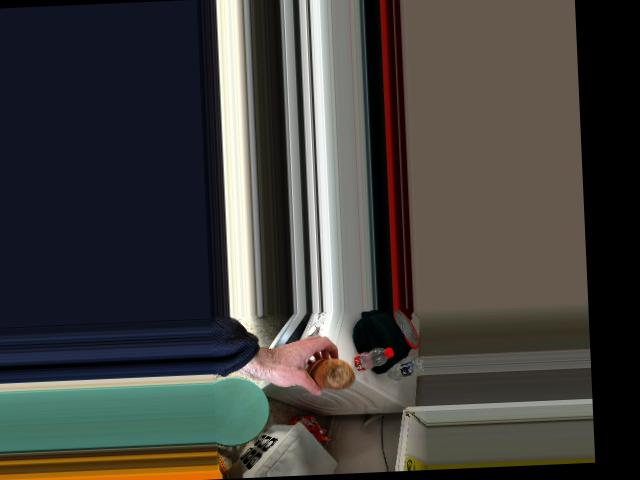sweet_potato: (302, 354, 358, 396)
